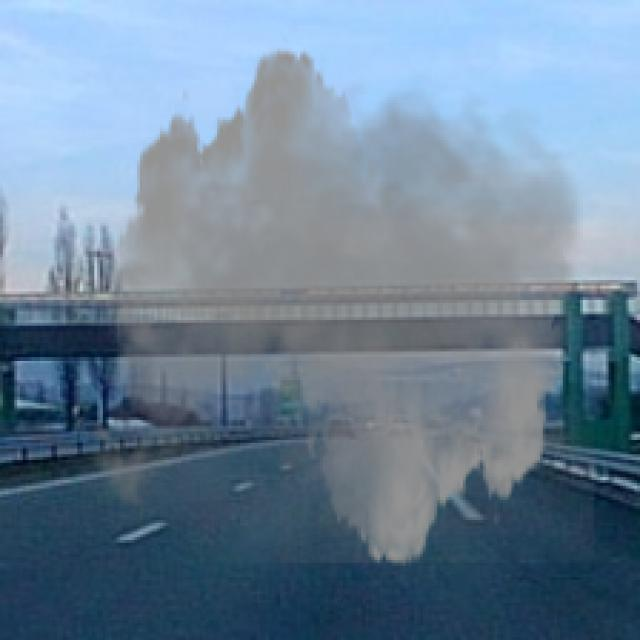smoke: (75, 31, 594, 583)
